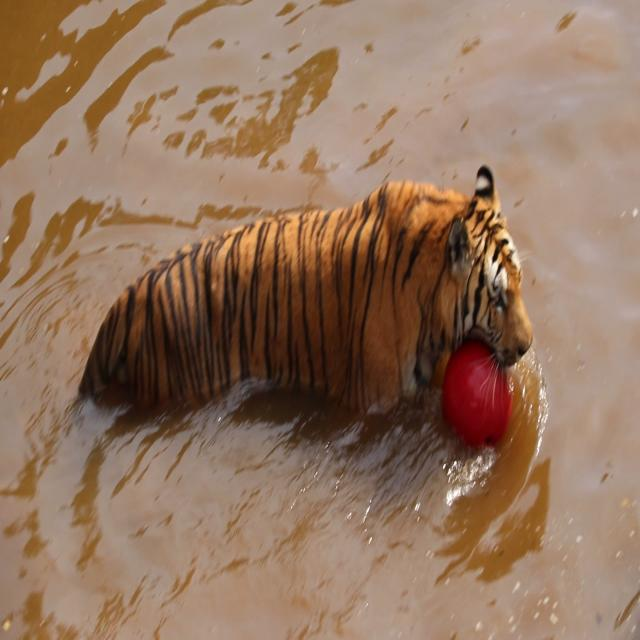Tiger: (77, 126, 558, 514)
